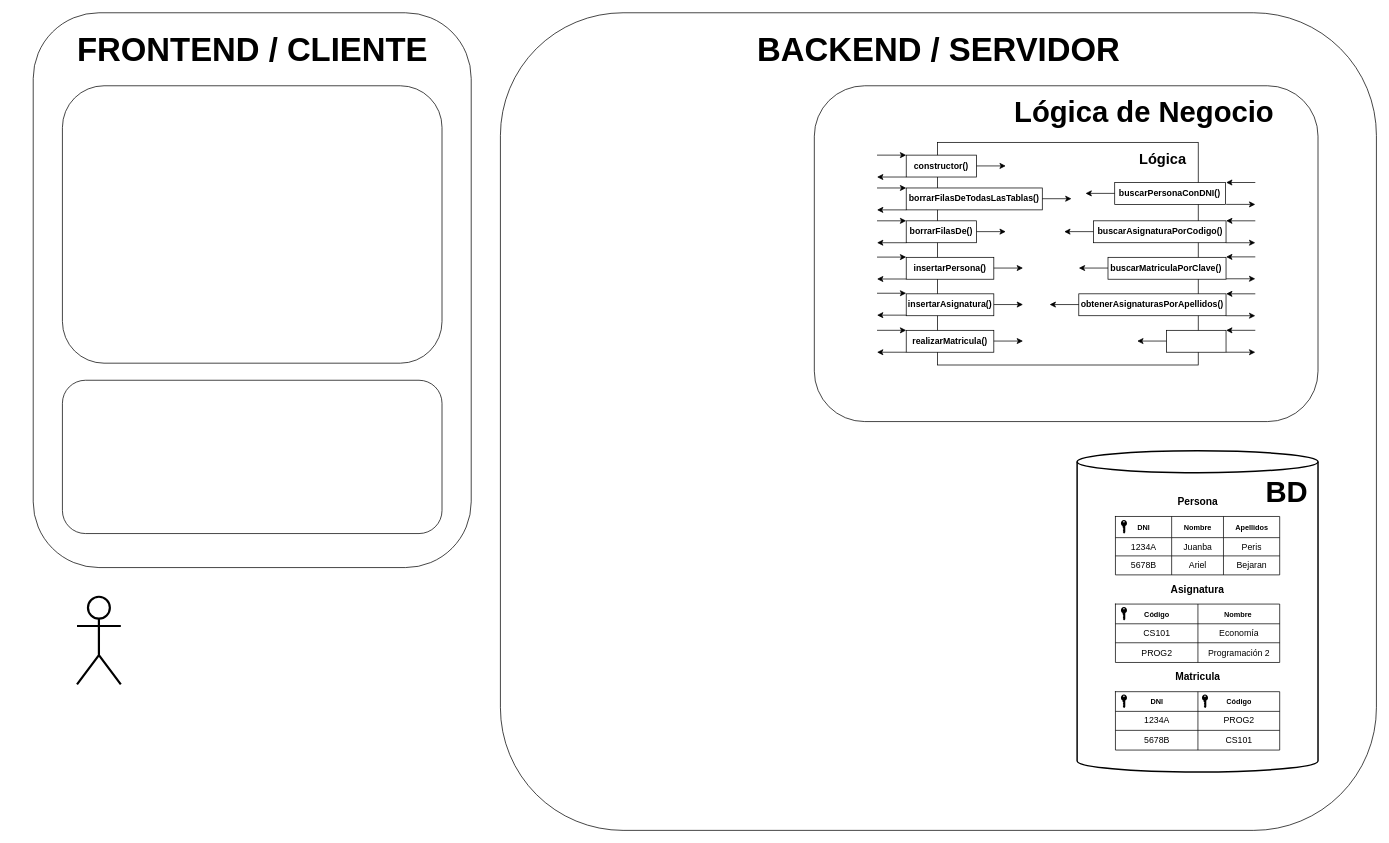
This 1389x843 diagram has some shape labels left out. The box of each missing label's shape, as (x1, y1, x2, y2) in pixels:
cerrar(): (1166, 330, 1226, 352)
Lógica FAKE: (62, 380, 442, 534)
Usuario / Cliente: (76, 595, 122, 685)
UX/UI: (62, 85, 442, 363)
